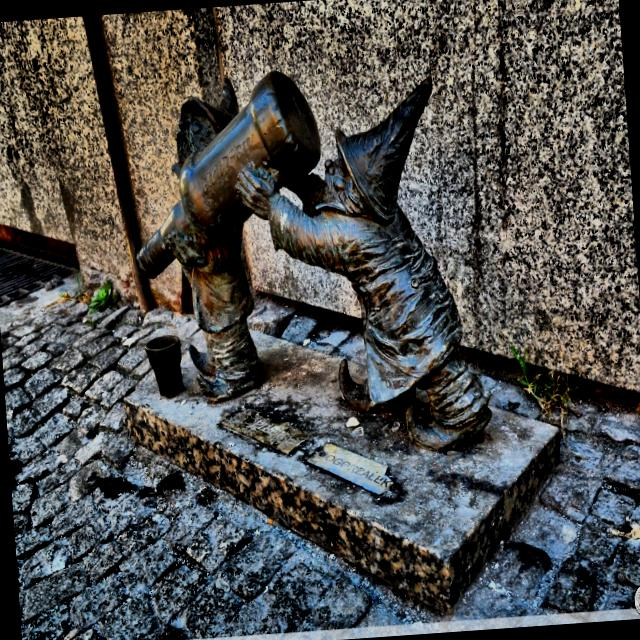Ogorzalek_i_Opilek: (136, 72, 491, 450)
